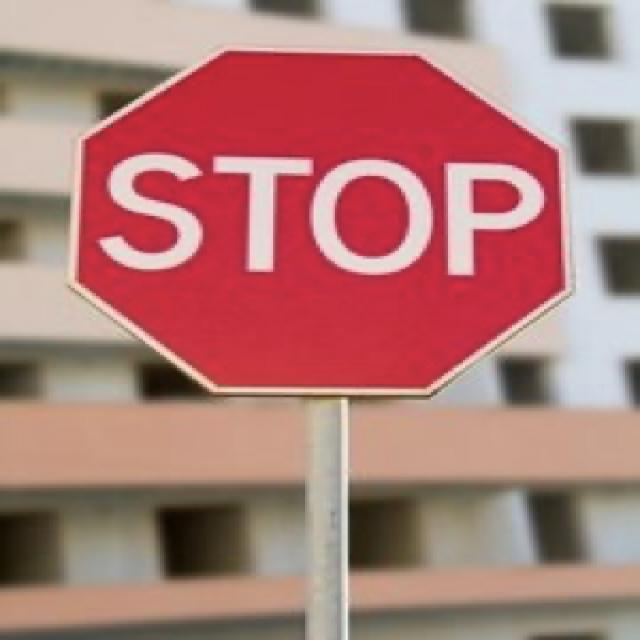stop: (66, 43, 575, 401)
